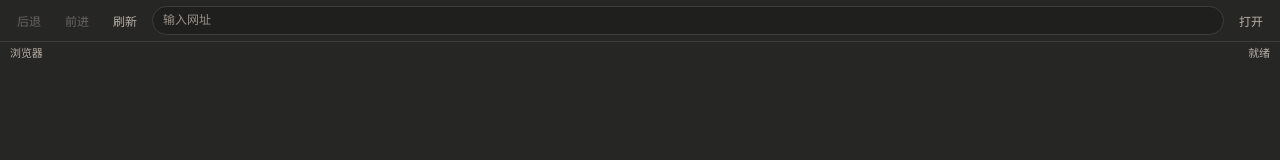
Scenario: BrowserPanel › rejects dangerous address javascript:alert(1)
Type "javascript:alert(1)" into the field named "网页地址" at coordinates (688, 21), box [152, 6, 1224, 35]
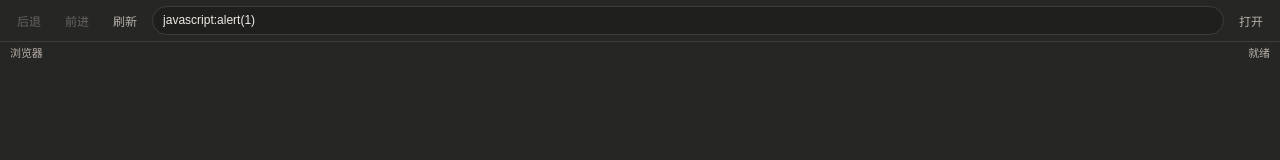
Submit the form named "网页地址", box [152, 6, 1272, 35]
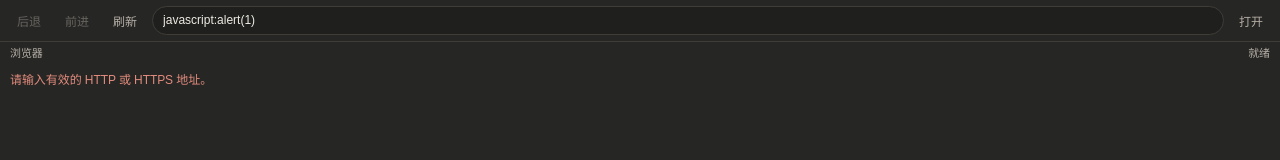
Now the message "请输入有效的 HTTP 或 HTTPS 地址。" is shown, box [10, 73, 212, 87]
